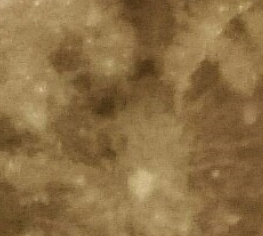crater: (95, 121, 181, 220), (195, 153, 227, 195)
